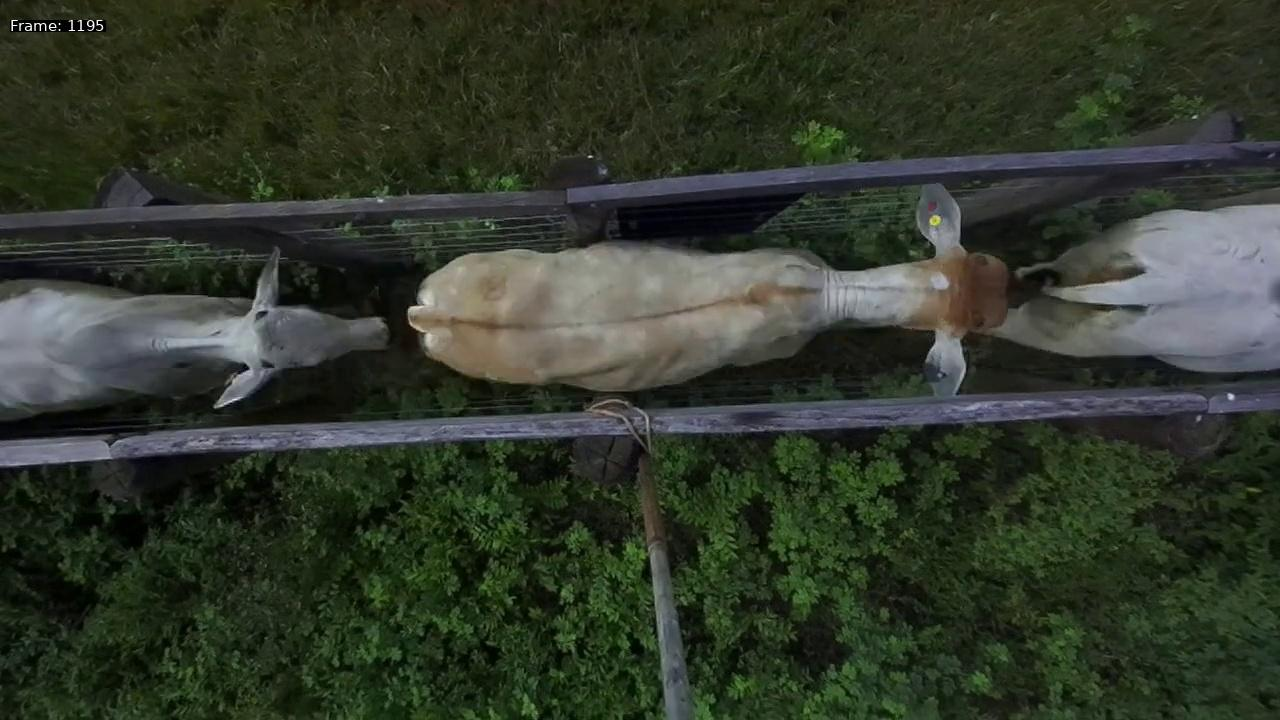cattle: (397, 172, 1017, 412)
